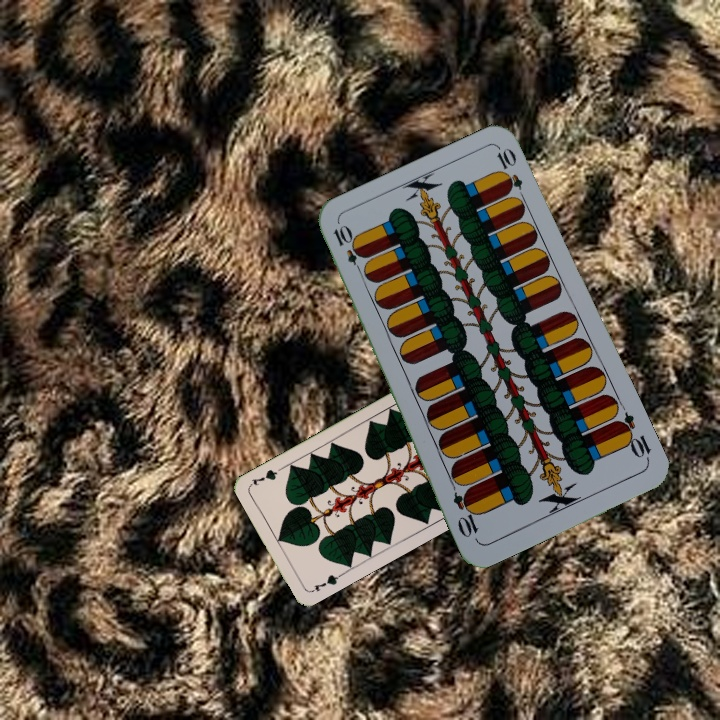E10: (612, 409, 654, 464), (329, 221, 367, 278)
G7: (307, 570, 344, 595)
